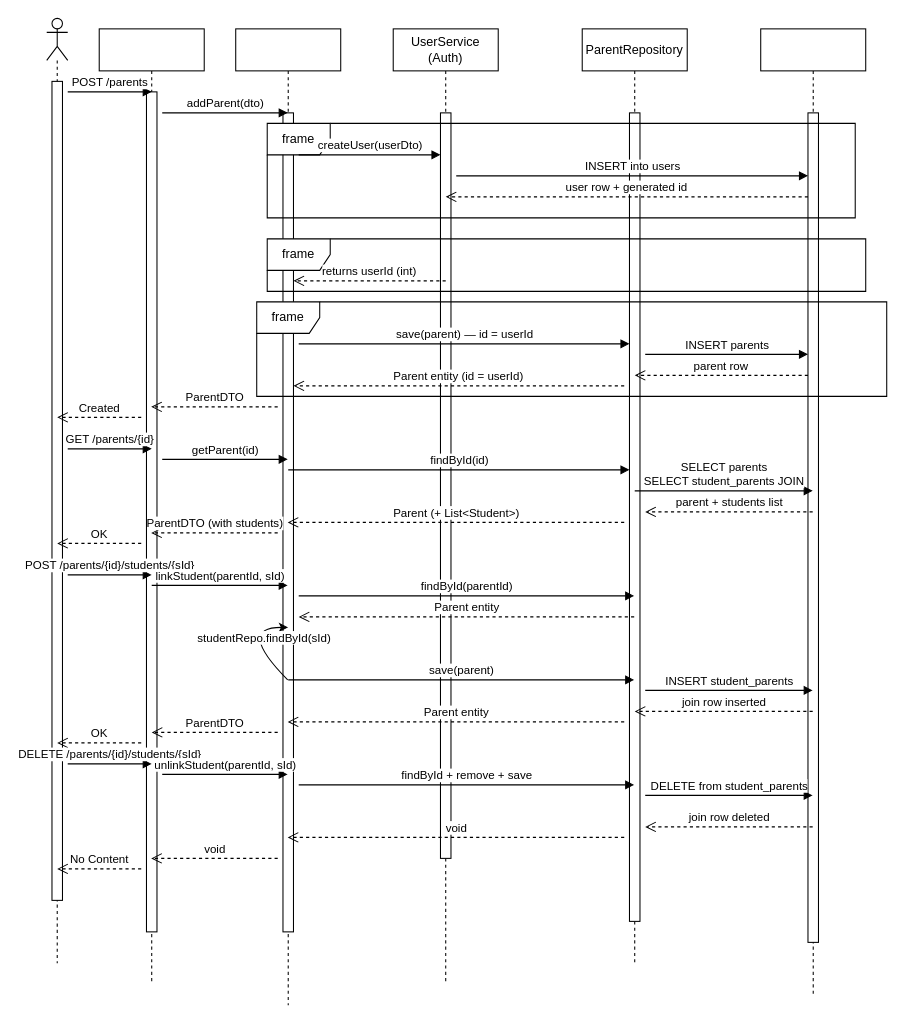
Image size: 905x1024. Some labels were removed from this diagram. The shapes that lost their labels are listed below. From the top down, each one's box as (x1, y1, x2, y2) in pixels, then its label:
(98, 28, 204, 984): Parent Controller
(235, 28, 341, 1005): Parent Service
(760, 28, 866, 995): DB
